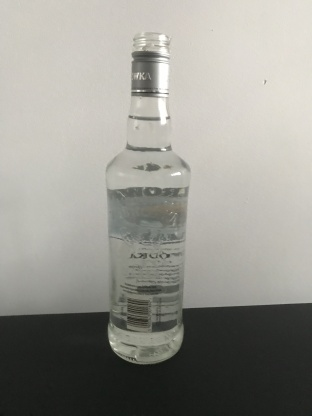nakretka: (129, 31, 171, 99)
